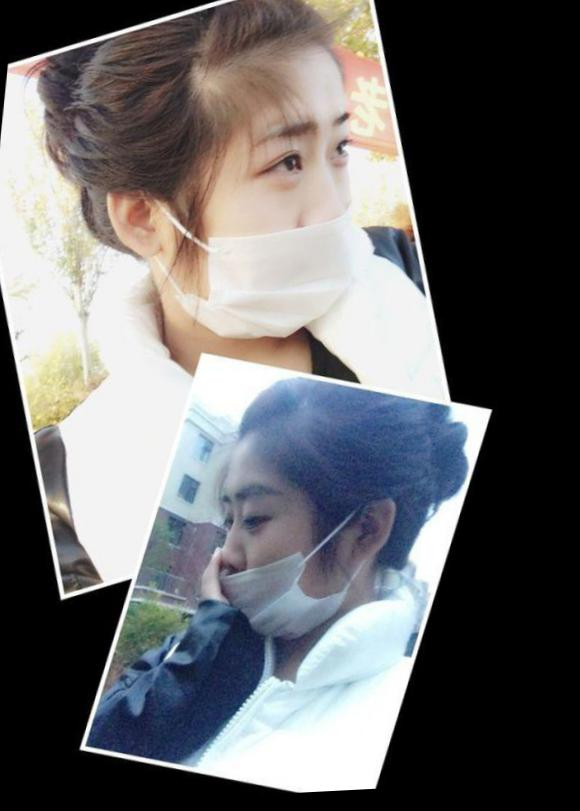WRONG: (153, 125, 381, 351), (213, 487, 371, 646)
